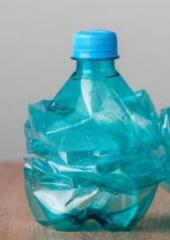plastic: (22, 29, 170, 232)
